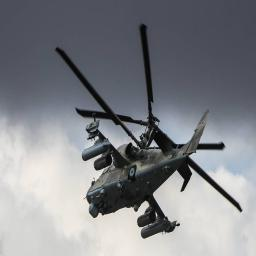helicopter: (45, 20, 242, 248)
